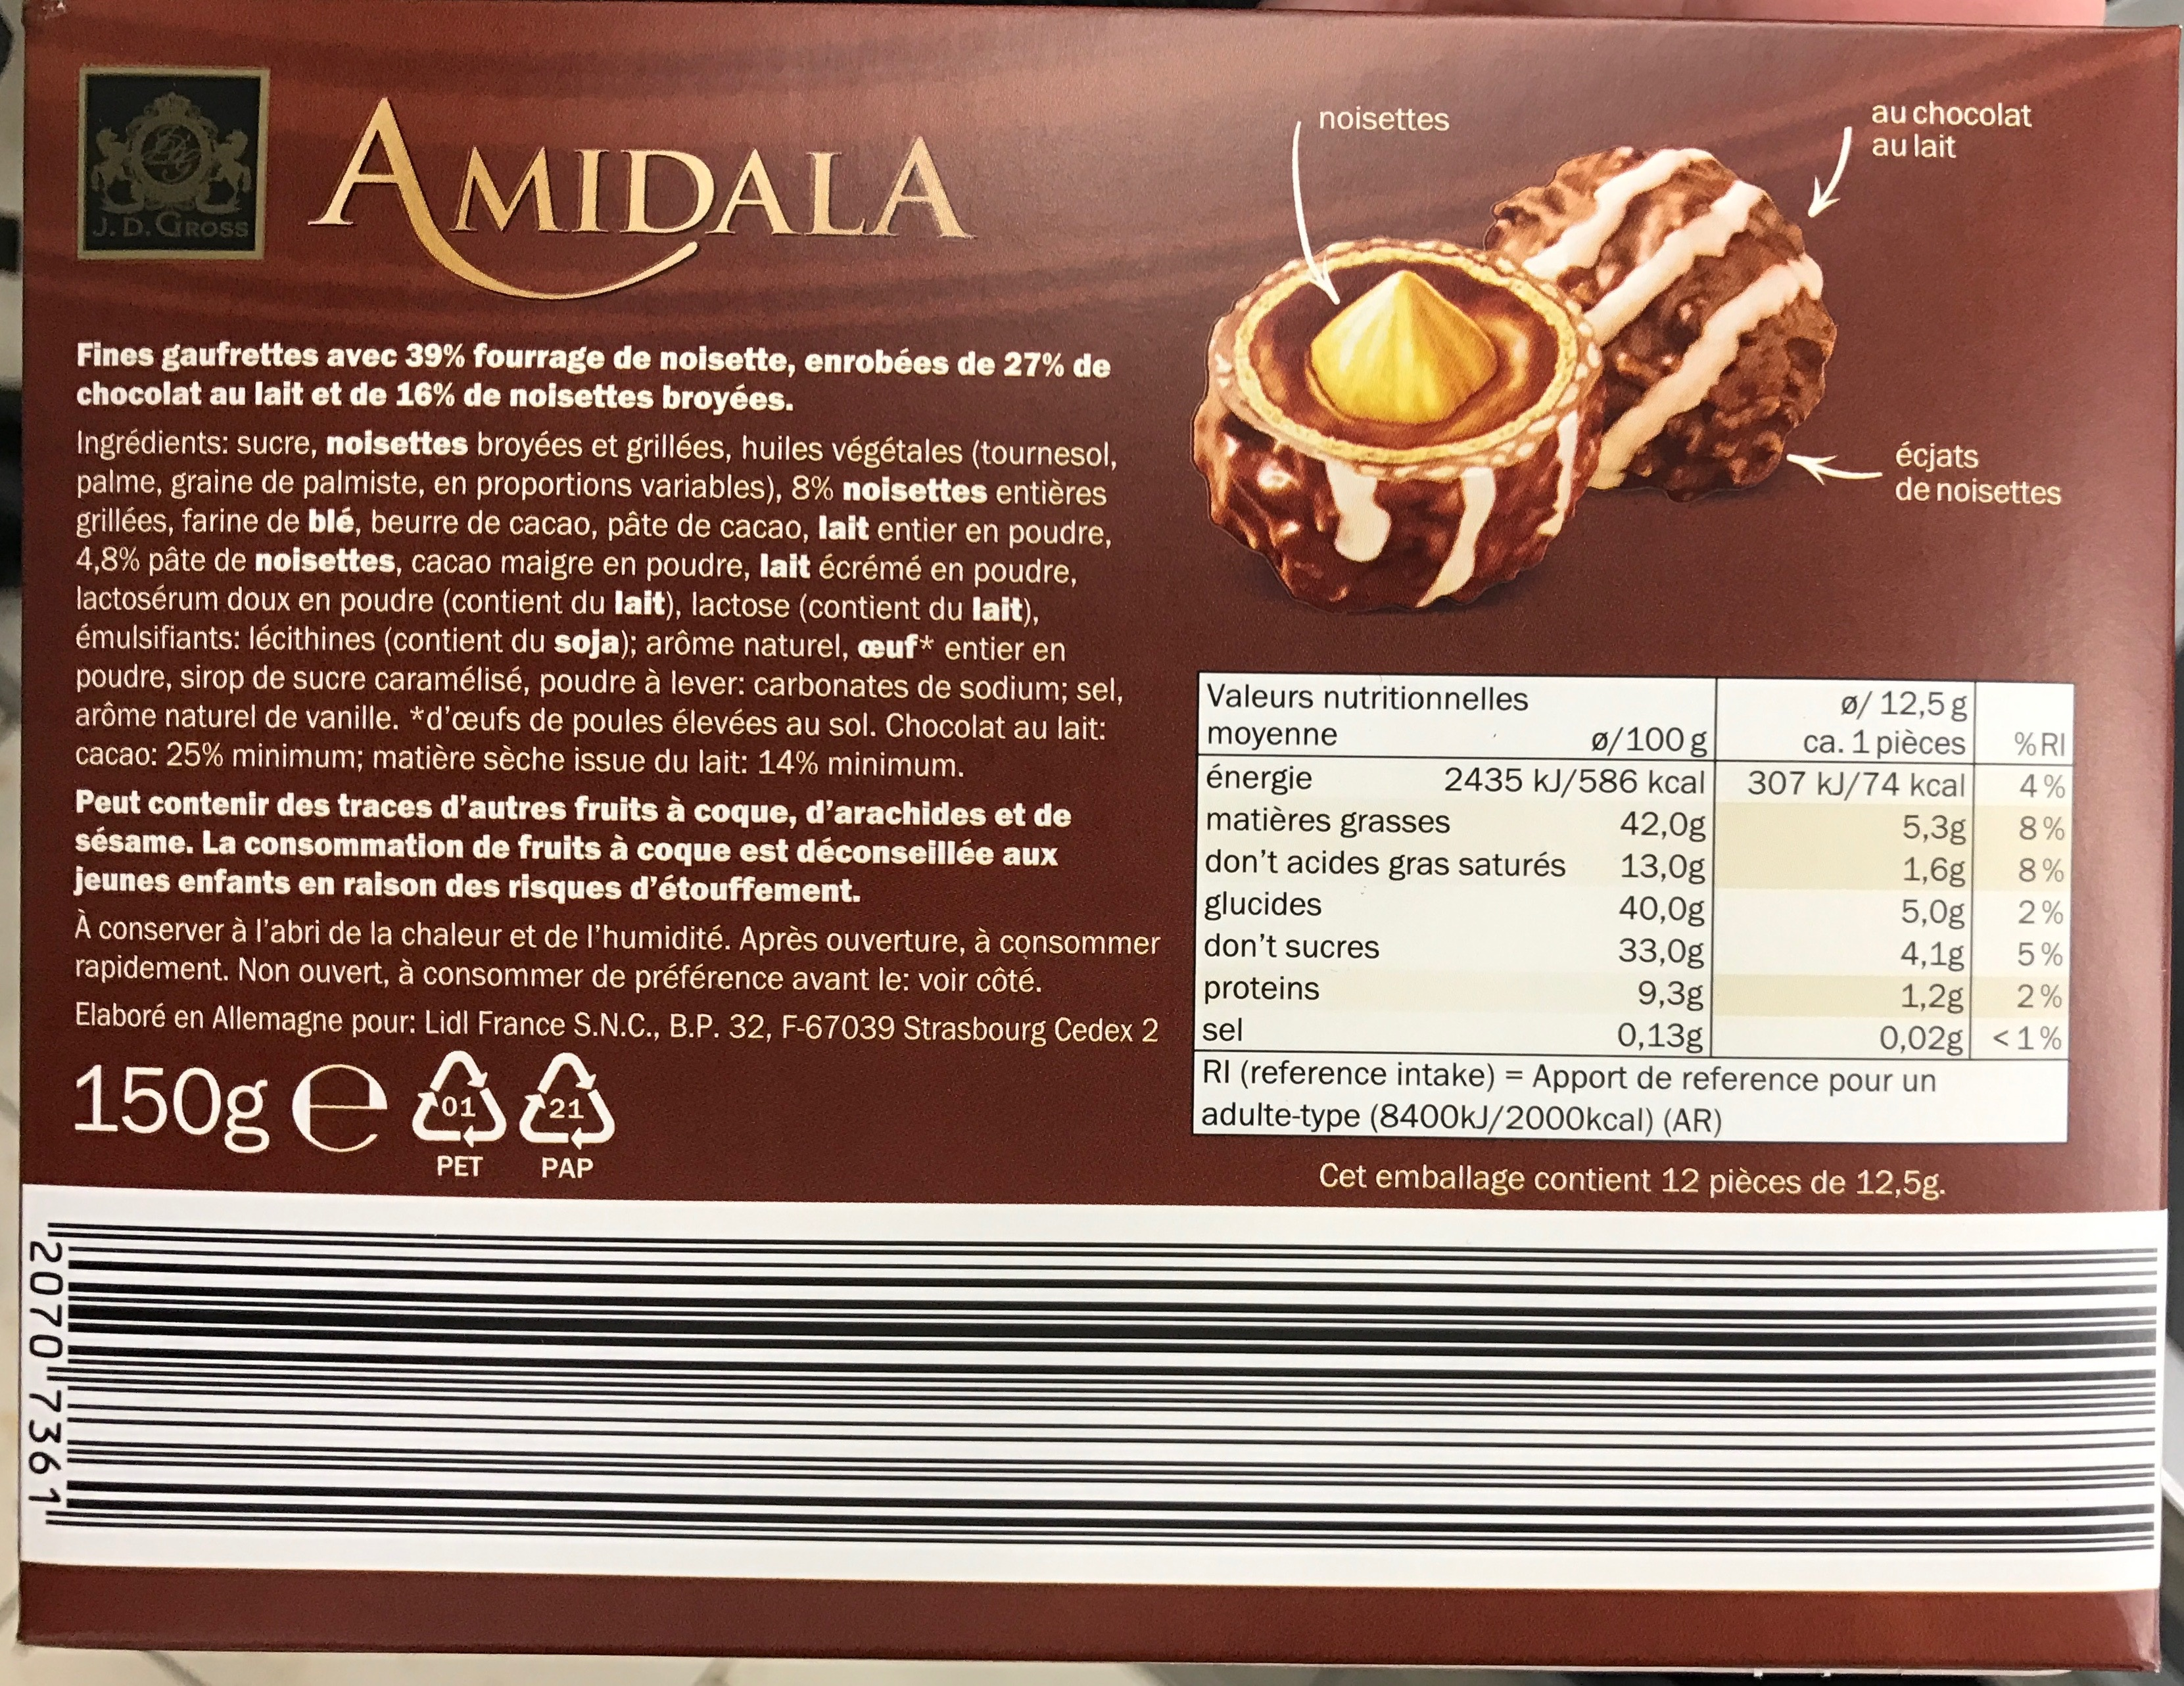column: (1204, 675, 1708, 1056), (1743, 682, 1966, 1059), (1991, 705, 2067, 1061)
table: (1192, 666, 2078, 1059)
